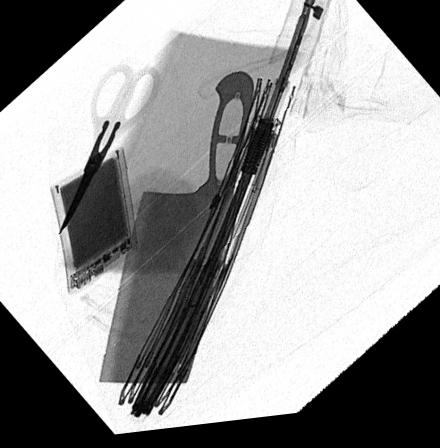Knife: (100, 74, 253, 387)
Powerbank: (50, 151, 138, 300)
Scissors: (57, 67, 161, 238)
